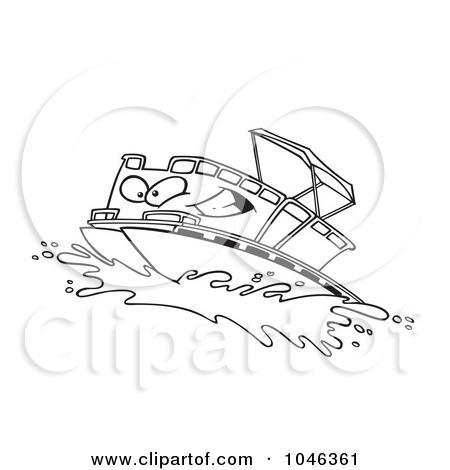boat: (72, 118, 376, 320)
